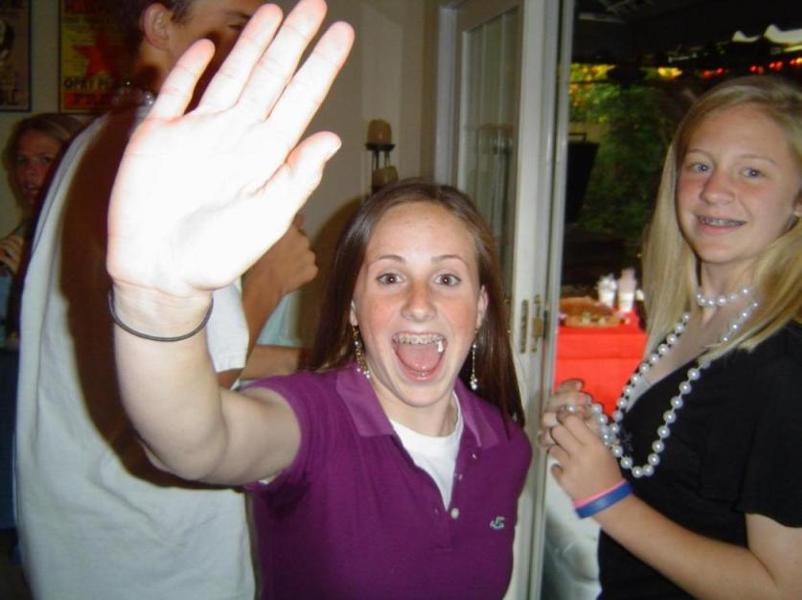person: (108, 1, 531, 600)
